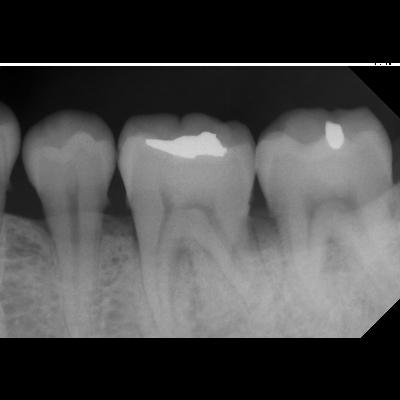tooth: (20, 105, 117, 337)
